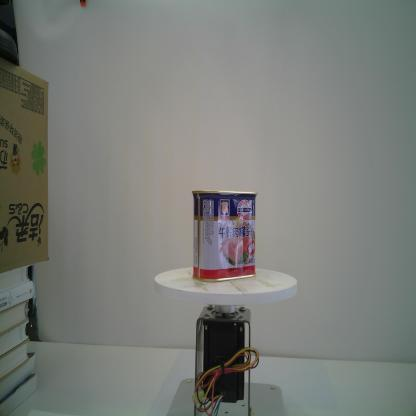Canned Food: (190, 187, 258, 282)
